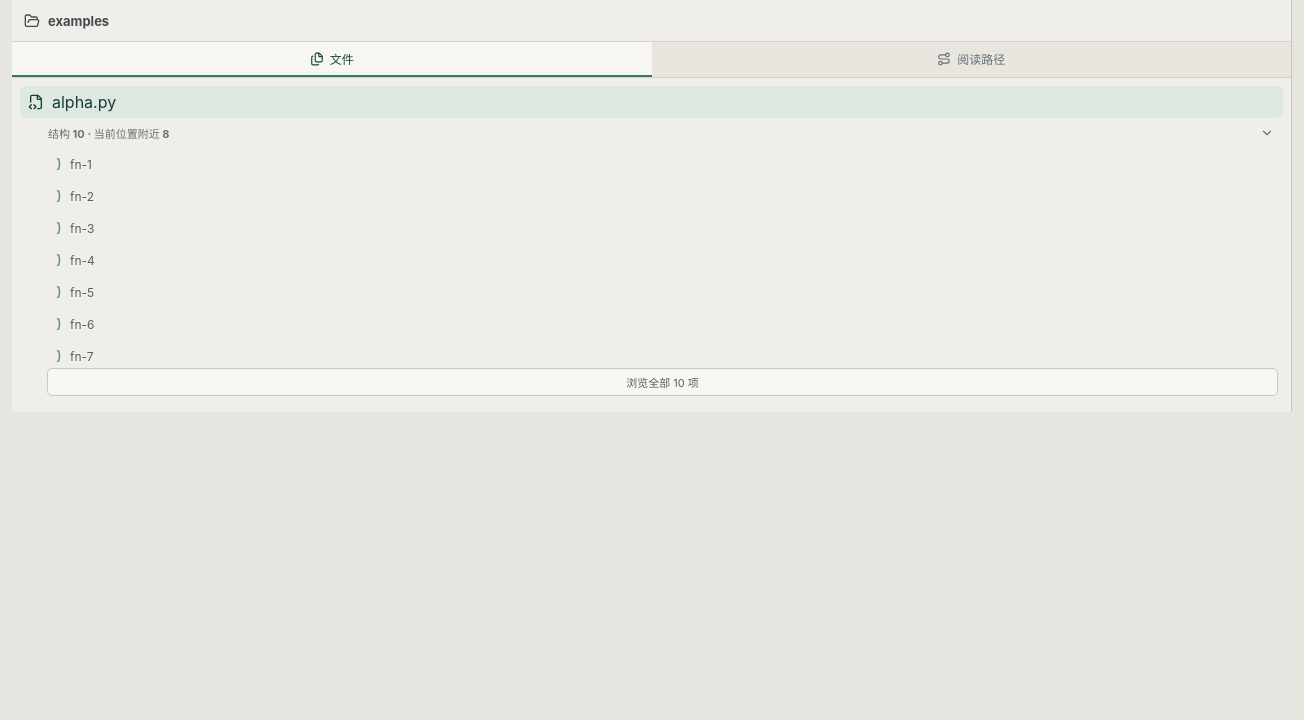
FileExplorer workspace interactions › expands all targets beyond the compact limit and returns to the focused view
Expected: the text "结构 10 · 当前位置附近 8" is shown, [48,125,169,141]
Expected: the button "fn-10" is not shown
Click the button "浏览全部 10 项".
click(662, 382)  # box [47,368,1278,396]
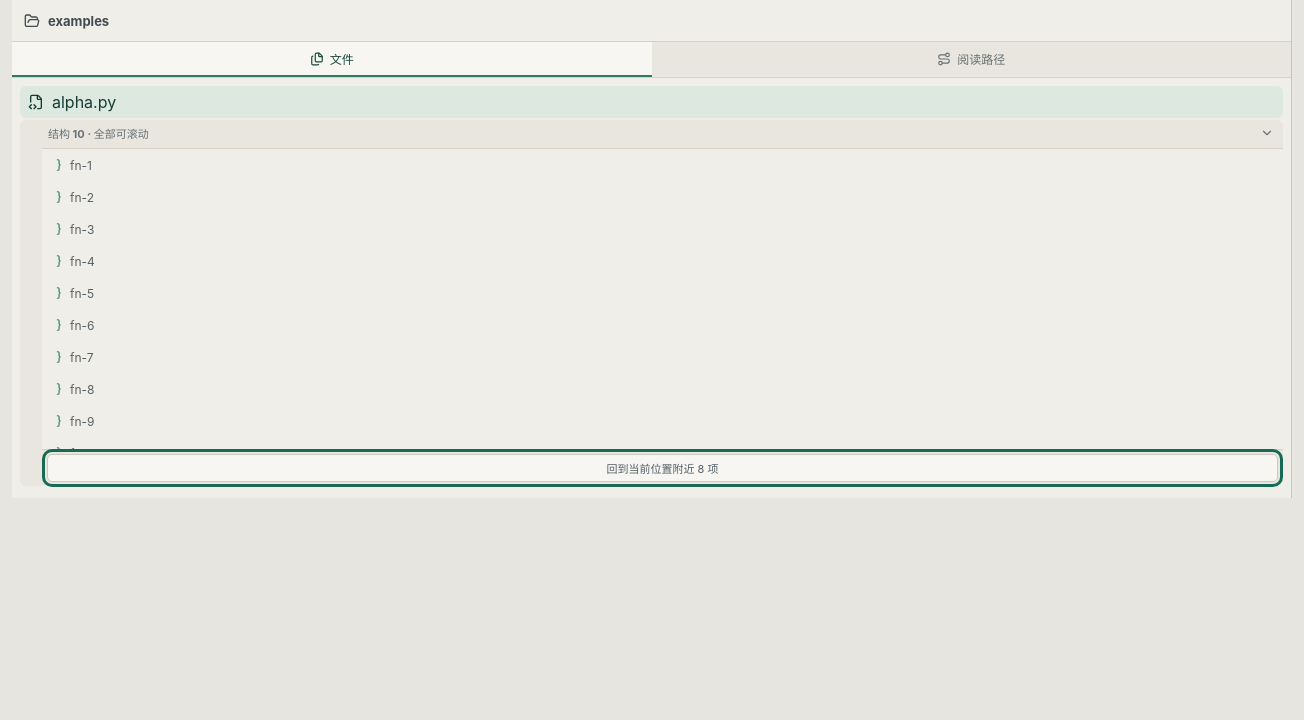
Click the button "回到当前位置附近 8 项".
click(662, 468)  # box [47,454,1278,482]
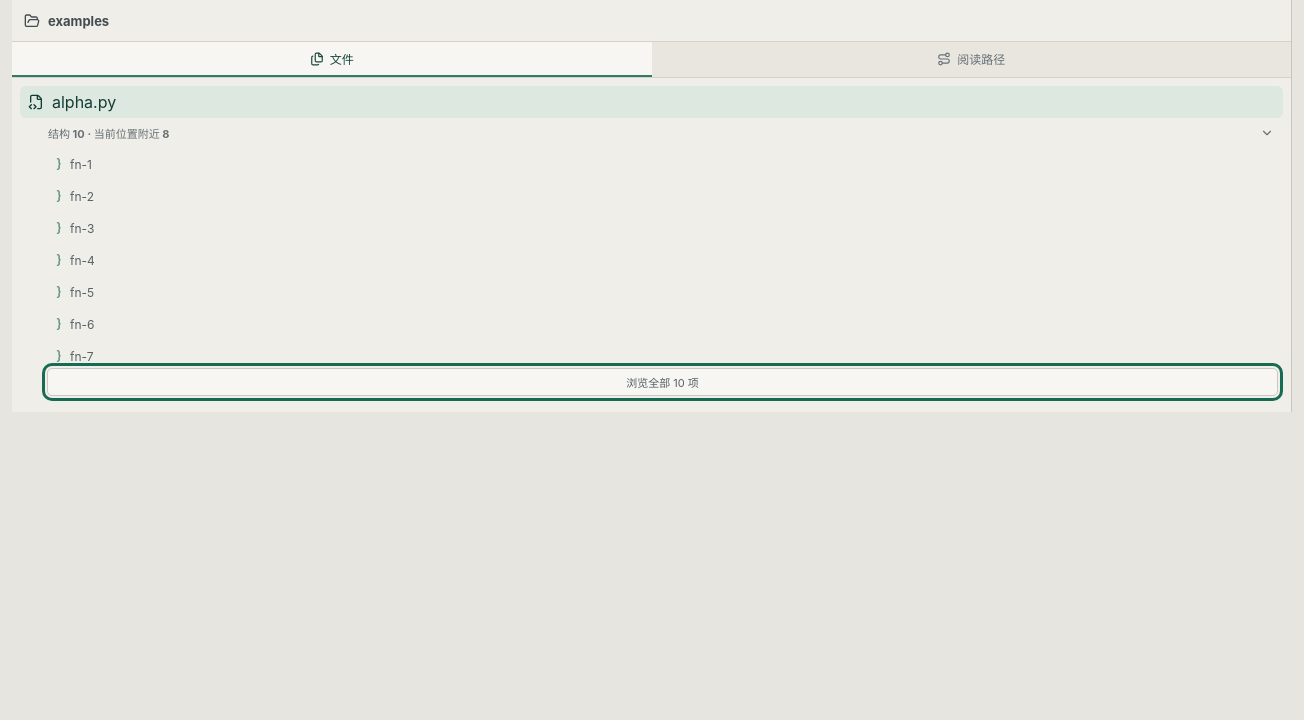
Expected: the button "fn-10" is gone
